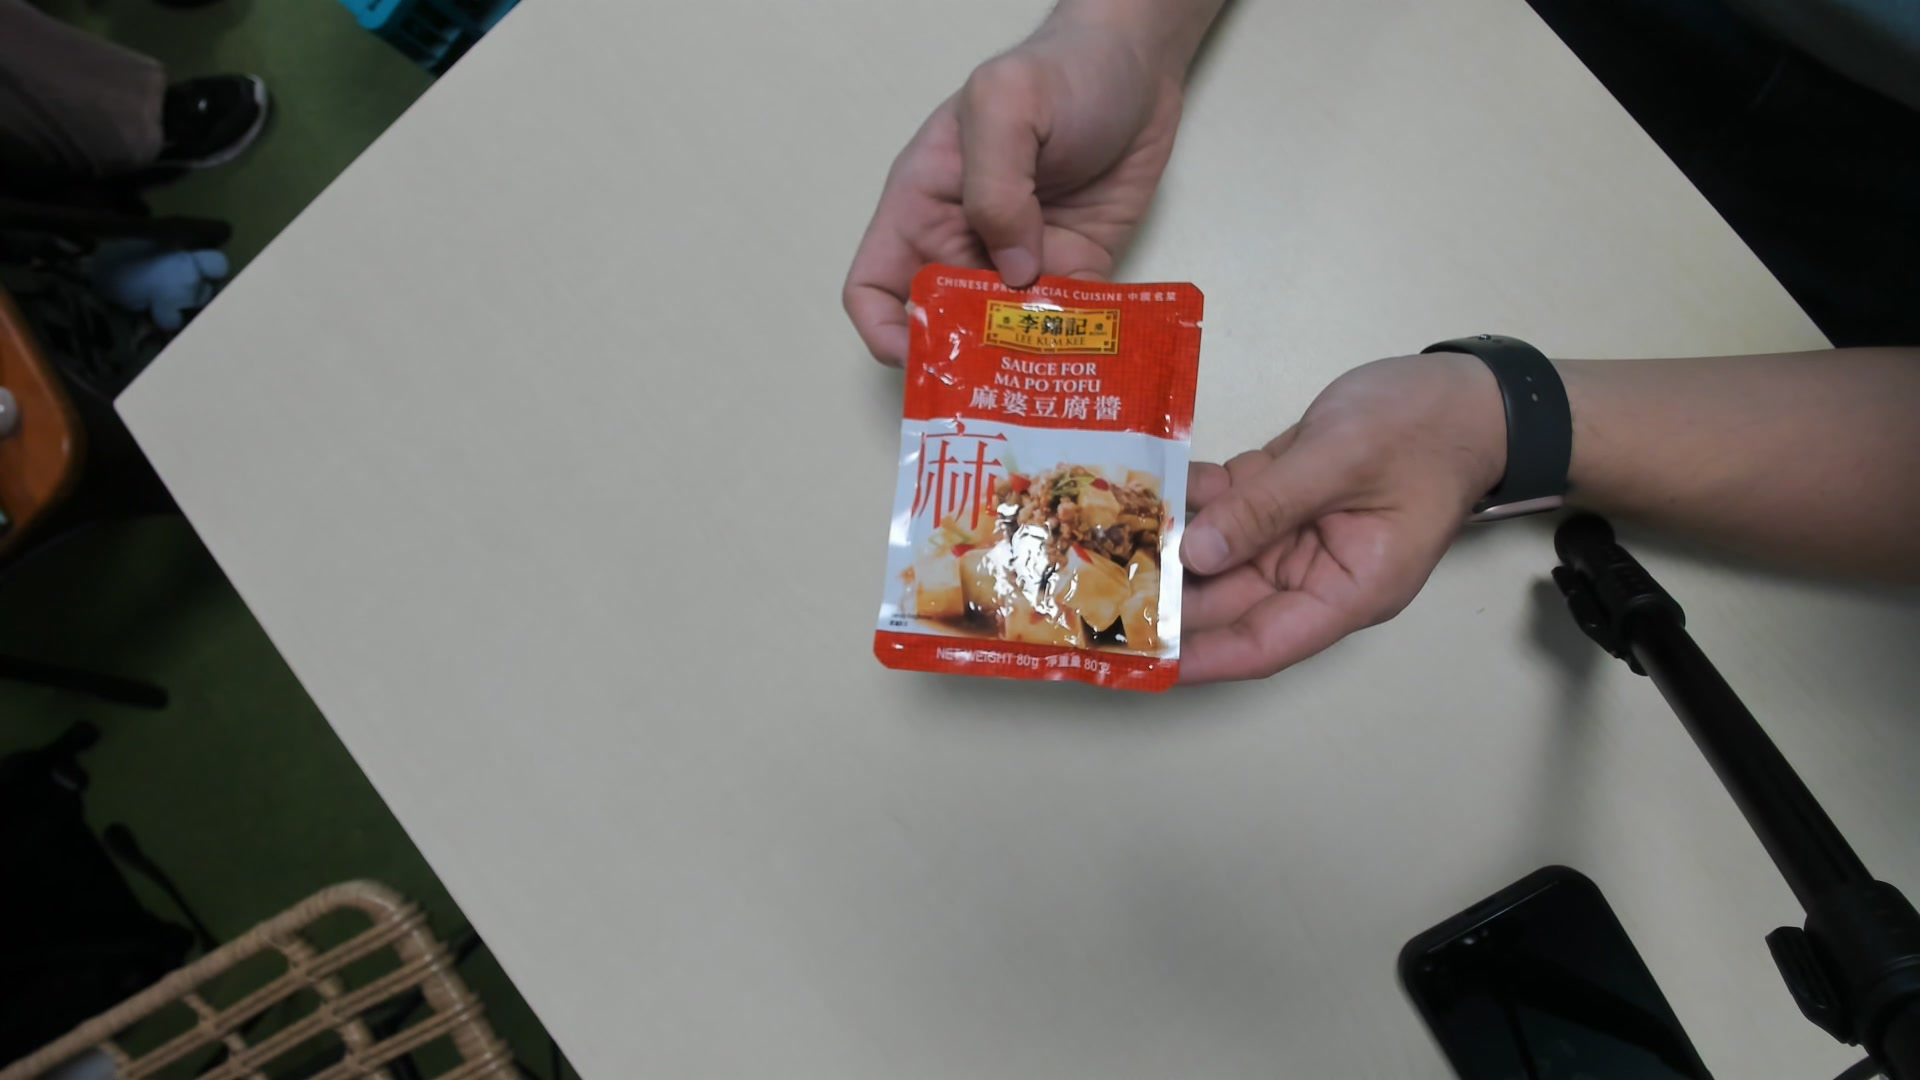OtherSauceDressing_0-99g_NonHalal_NonHealthy: (873, 260, 1203, 694)
